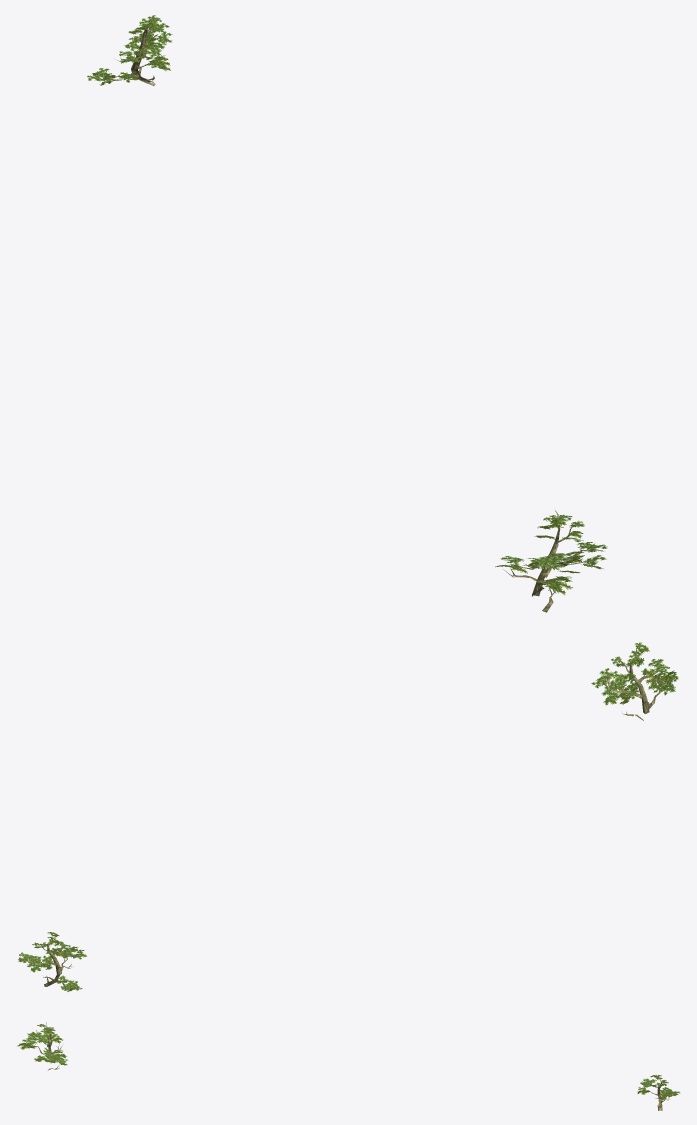
Rendered from S_Tree_3100_010.FBX.
3 renders of one model, top to bottom at view 1: azimuth 30°, elevation 25°; view 2: azimuth 150°, elevation 25°; view 3: azimuth 270°, elevation 25°, orthographic. The views are drawn at different scales.
Visible parts, largest first — view 1: S_Tree_Green048_A2, S_Tree_Green048_A1; view 2: S_Tree_Green048_A2, S_Tree_Green048_A1; view 3: S_Tree_Green048_A2, S_Tree_Green048_A1.
Part boxes in pixels (box(x1,y1,x2,y2)): S_Tree_Green048_A2: box(495, 509, 607, 612); S_Tree_Green048_A1: box(87, 15, 172, 85); S_Tree_Green048_A2: box(591, 642, 678, 720); S_Tree_Green048_A1: box(18, 932, 87, 991); S_Tree_Green048_A2: box(17, 1022, 67, 1070); S_Tree_Green048_A1: box(637, 1074, 680, 1110).
Bounding box in the file's own units: 2979 × 984 × 11598.
